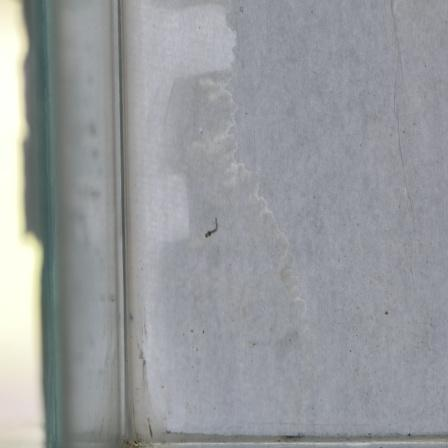Jentik-Nyamuk: (201, 212, 223, 242)
